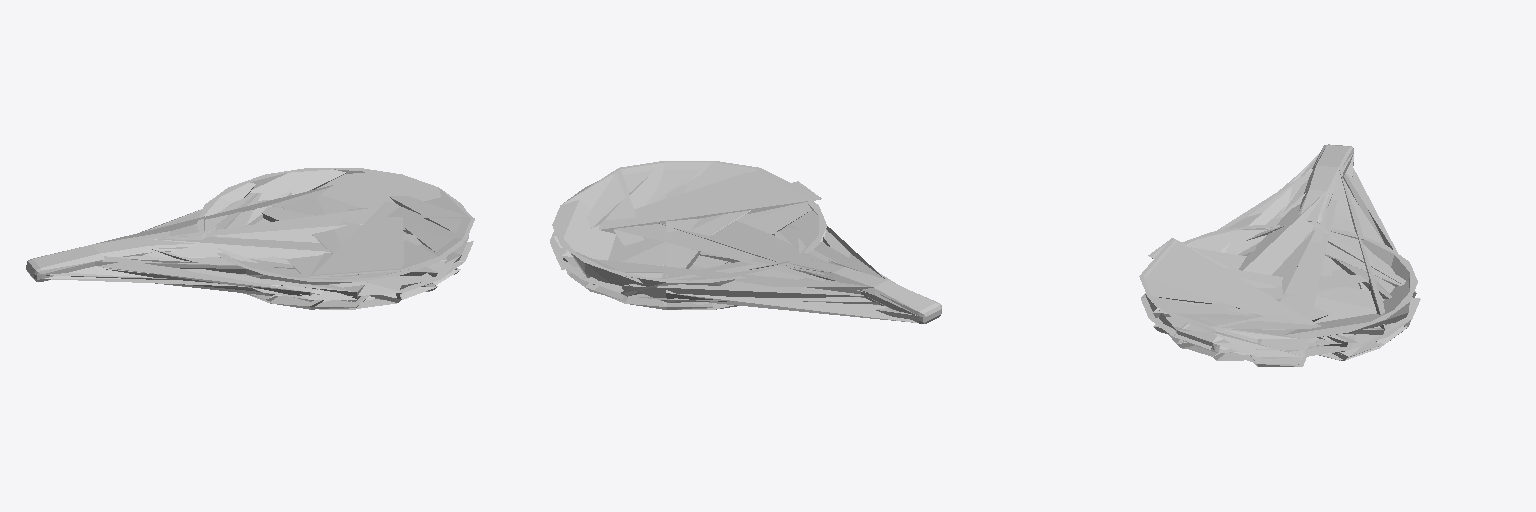
File: Frying pan.obj
3 views of the same model, side by side, from view 1: azimuth 30°, elevation 25°; view 2: azimuth 150°, elevation 25°; view 3: azimuth 270°, elevation 25° (orthographic).
Visible parts, largest first — view 1: Cylinder001, Box001; view 2: Cylinder001, Box001; view 3: Cylinder001, Box001.
Part boxes in pixels (left/top/right/bottom): Cylinder001: left=45, top=168, right=474, bottom=309; Box001: left=26, top=236, right=202, bottom=281; Cylinder001: left=550, top=161, right=918, bottom=322; Box001: left=785, top=259, right=941, bottom=323; Cylinder001: left=1139, top=153, right=1420, bottom=366; Box001: left=1298, top=144, right=1353, bottom=222.
Size of the model in its own units: 923795 by 102196 by 570540.